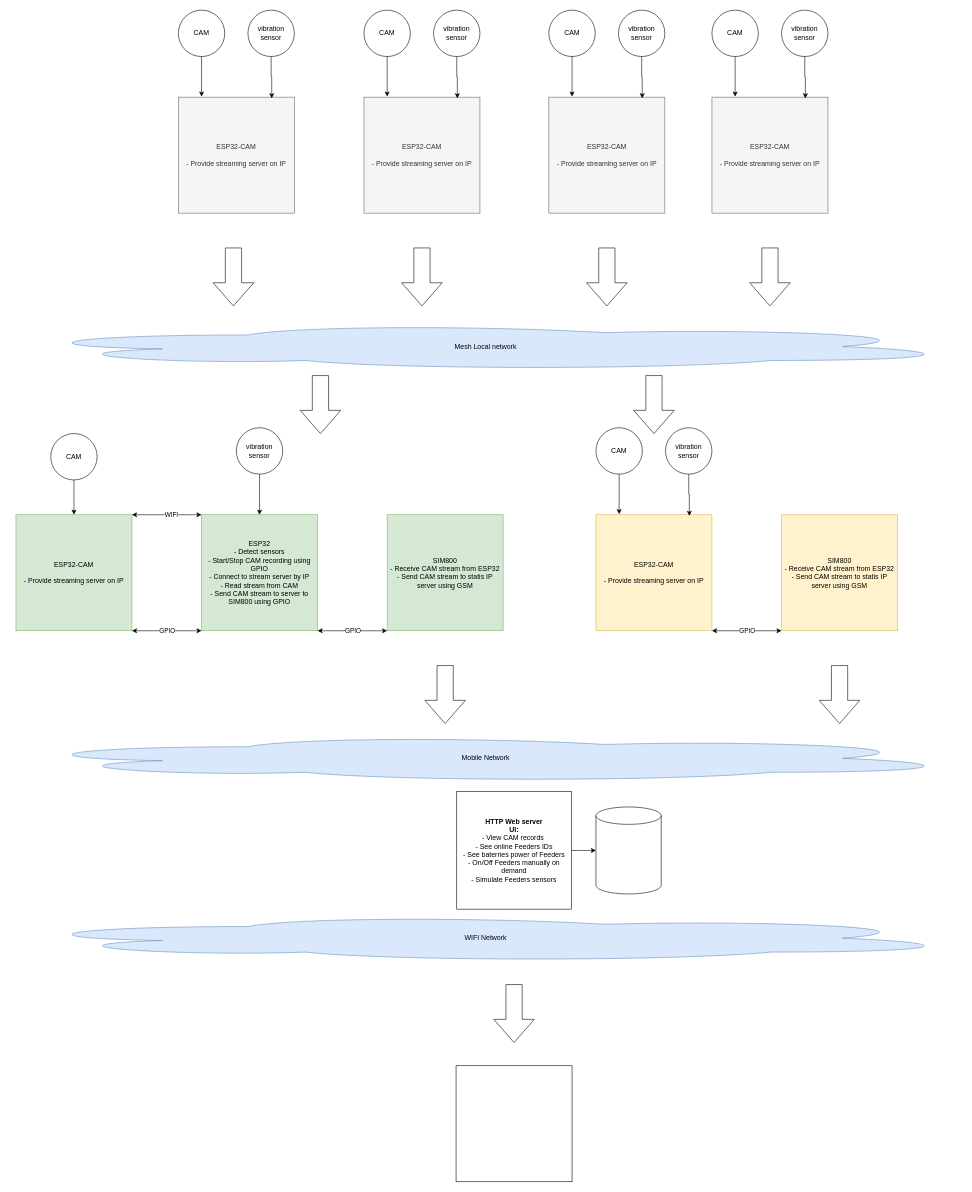
This 972x1192 diagram has some shape labels left out. The box of each missing label's shape, as (x1, y1, x2, y2) in pixels:
DB - Feeder ID - Date - Sensor data - CAM stream file: (595, 806, 661, 894)
ESP32 -: (455, 1065, 572, 1182)
